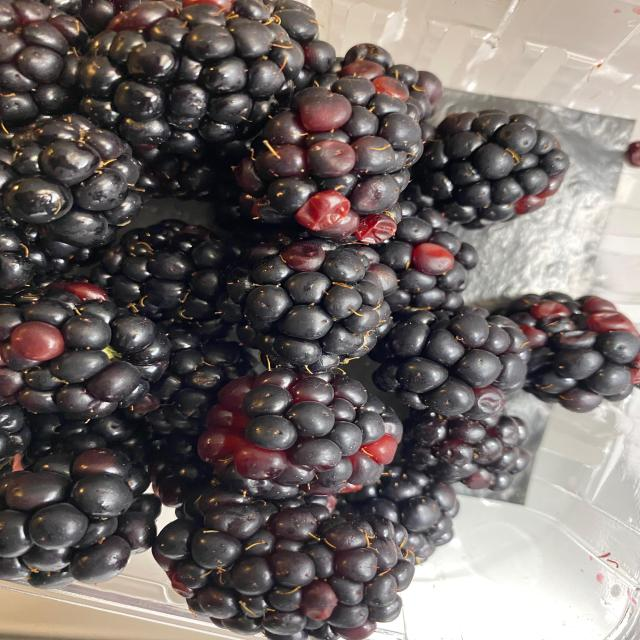blackberries: (13, 8, 629, 618)
